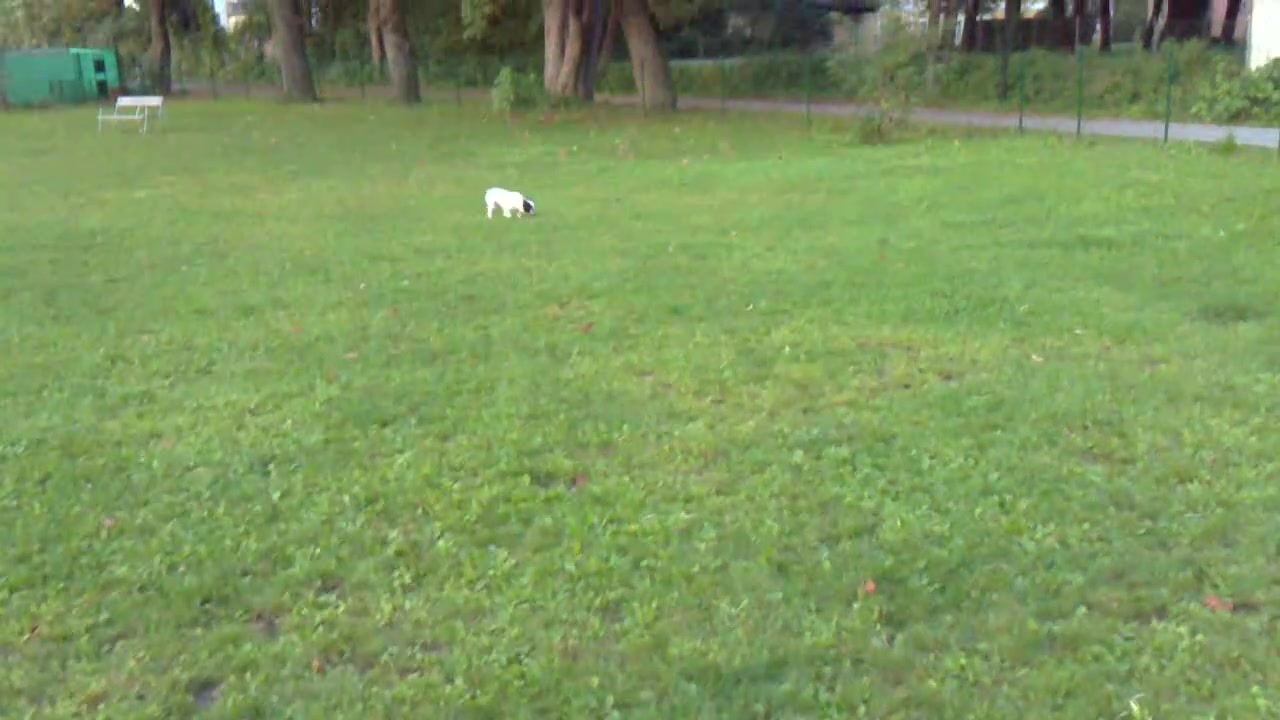dog: (481, 184, 538, 222)
